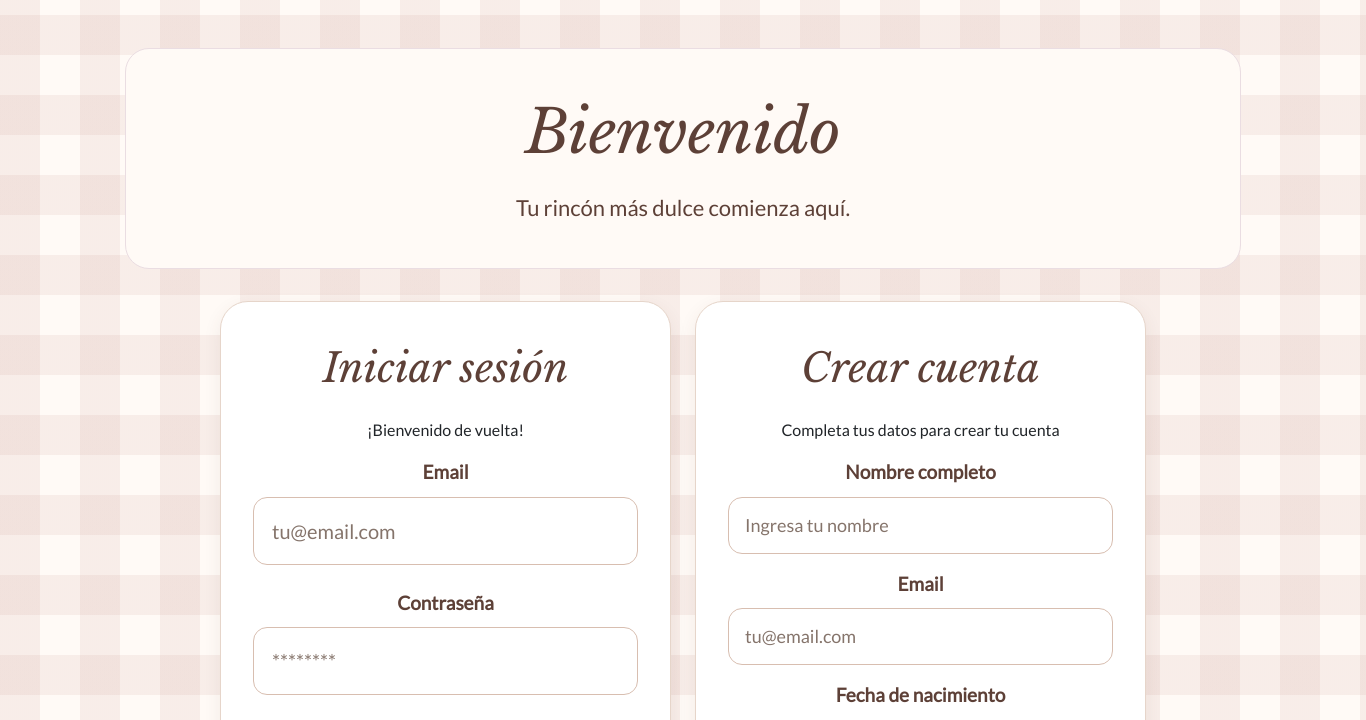
Test case: Inicio de sesion › muestra u error con credenciales incorretas
The image size is (1366, 720).
Type "incorrecto@gmail.com" into the field labelled "Email" below "¡Bienvenido de vuelta!" at (446, 530), box x1=253 y1=496 x2=638 y2=564
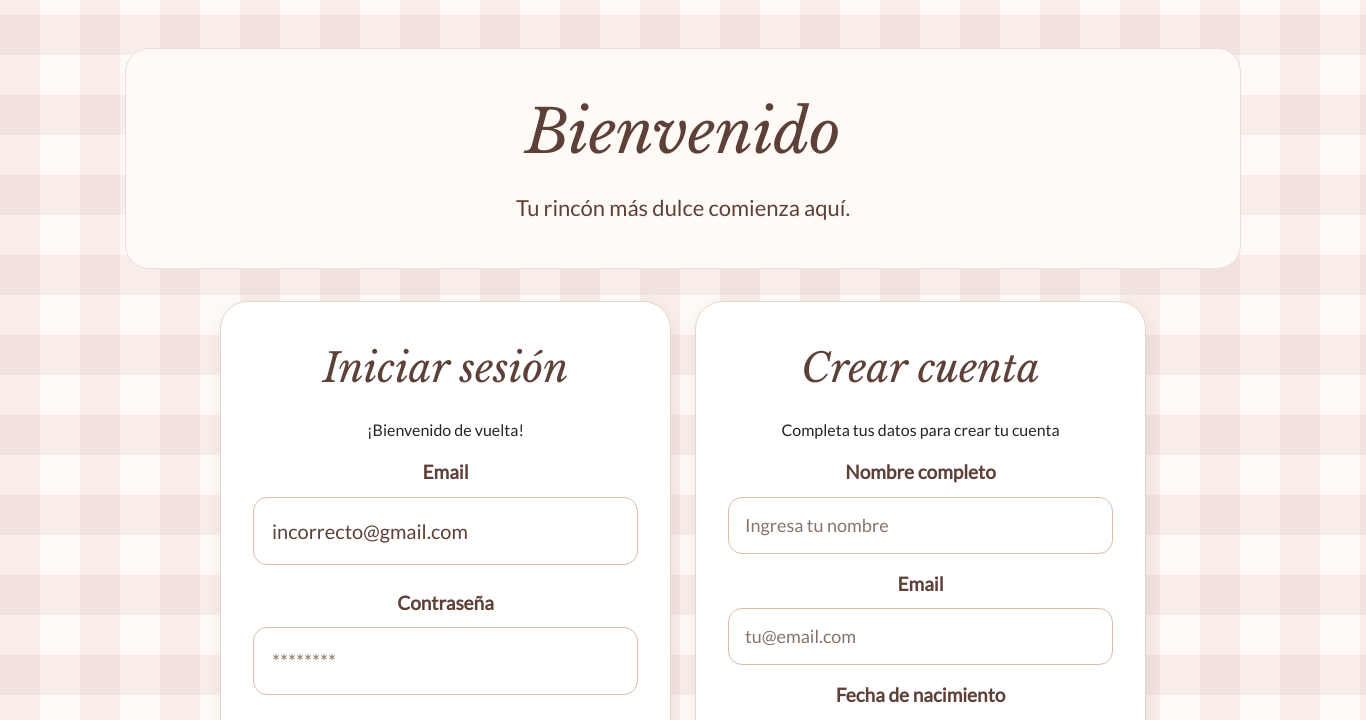
Type "incorrecta" into the password field labelled "Contraseña" at (446, 661), box x1=253 y1=627 x2=638 y2=695
(page scrolled)
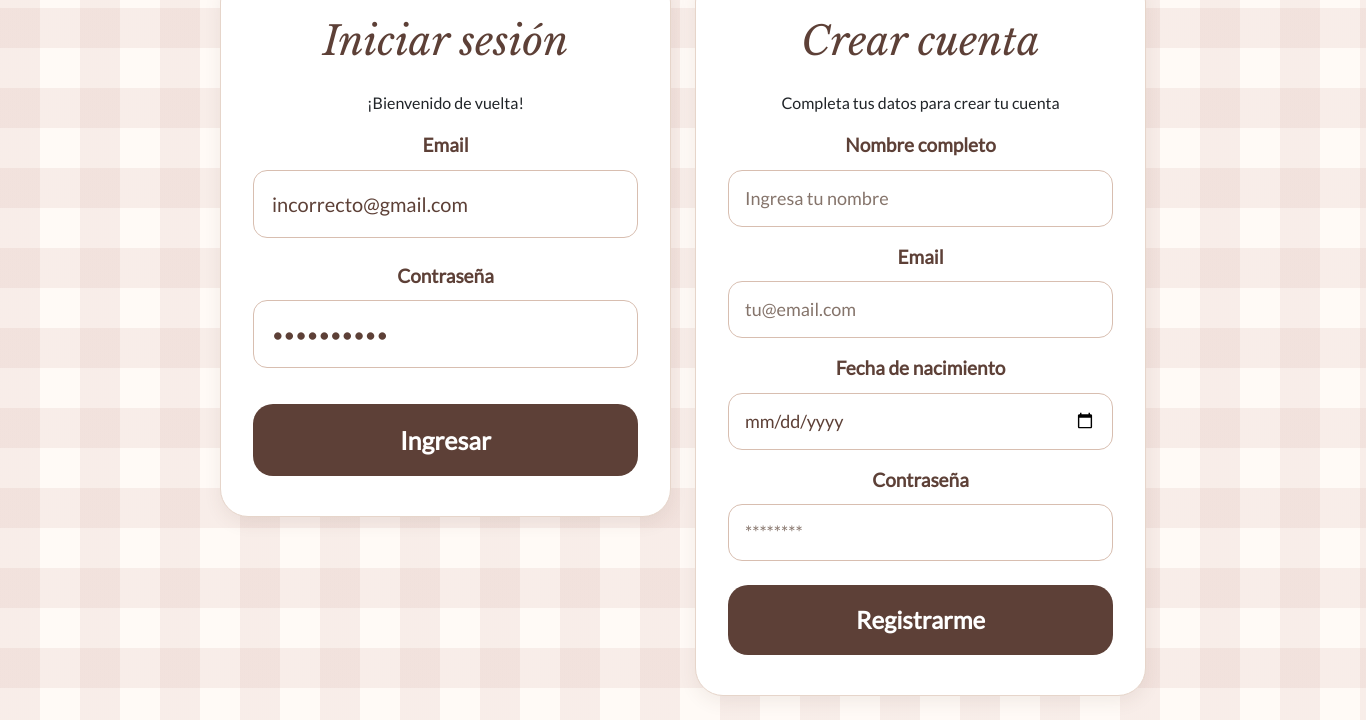
Click the button "Ingresar" at (446, 440), box x1=253 y1=404 x2=638 y2=476
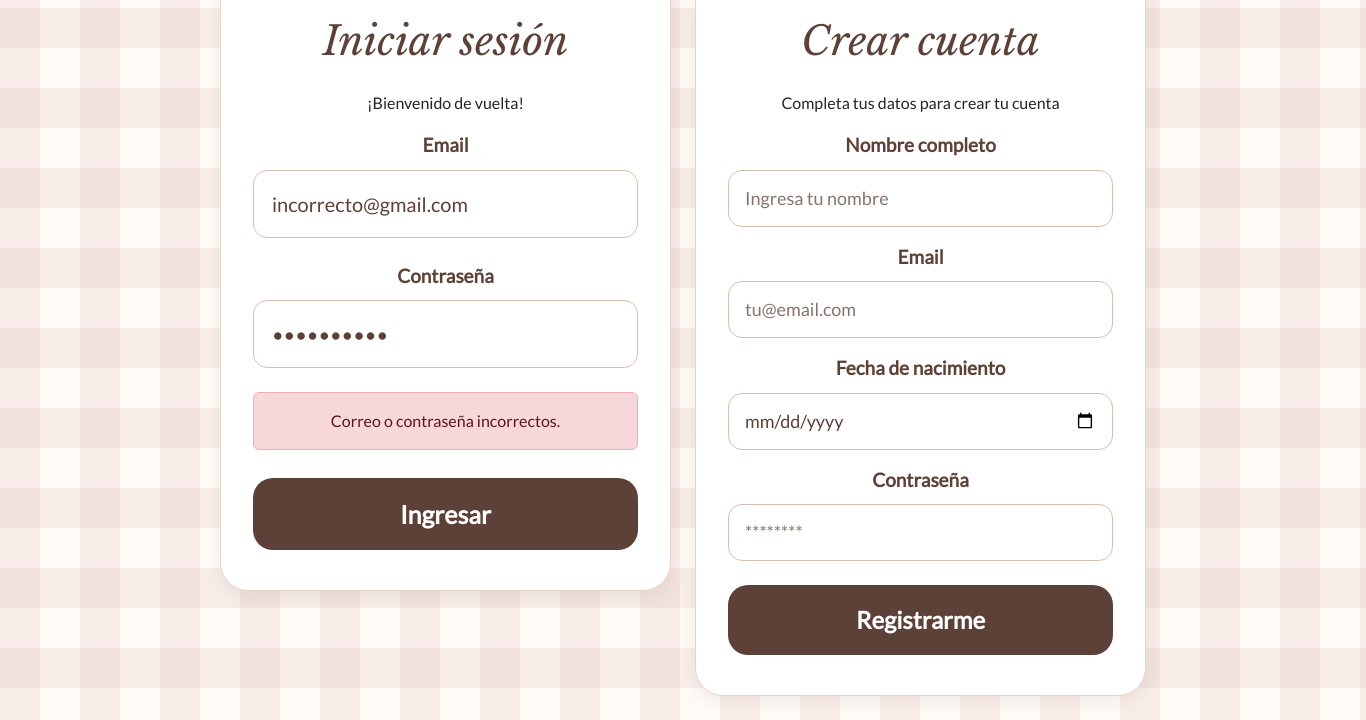
Check: the text "Correo o contraseña incorrectos." is shown, box x1=253 y1=392 x2=638 y2=450
